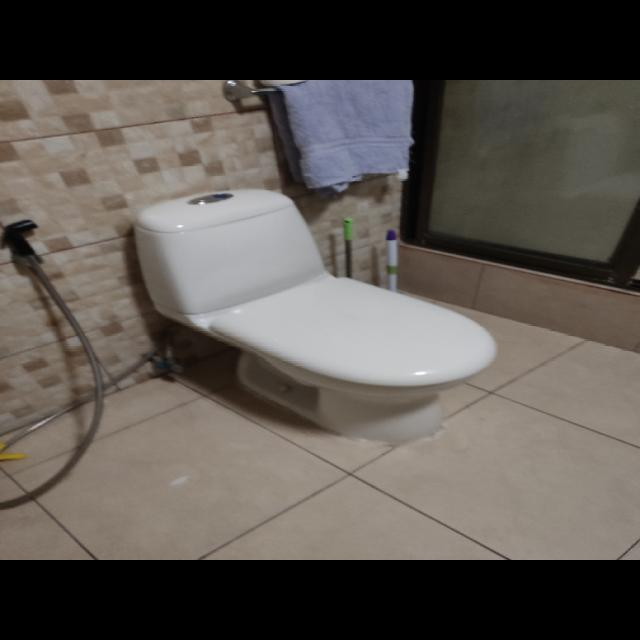toilet: (131, 187, 498, 443)
